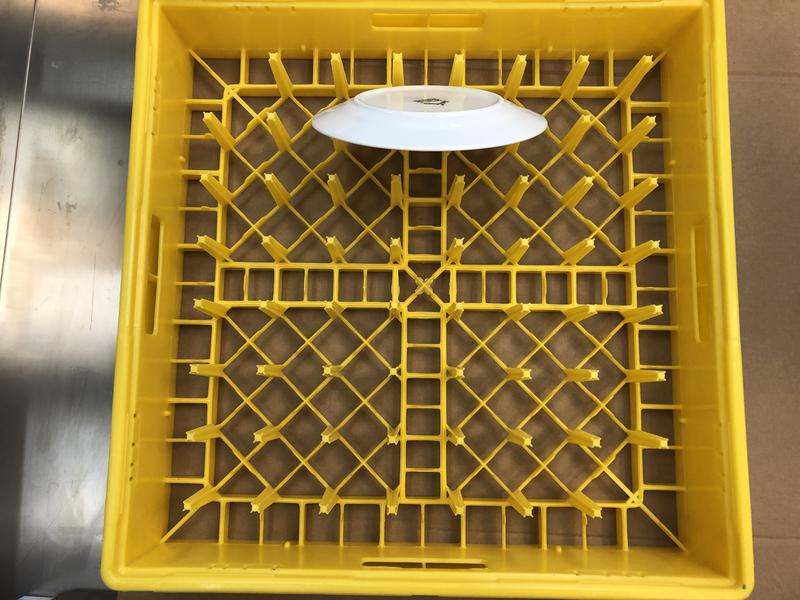Inclined_dish: (308, 84, 547, 152)
